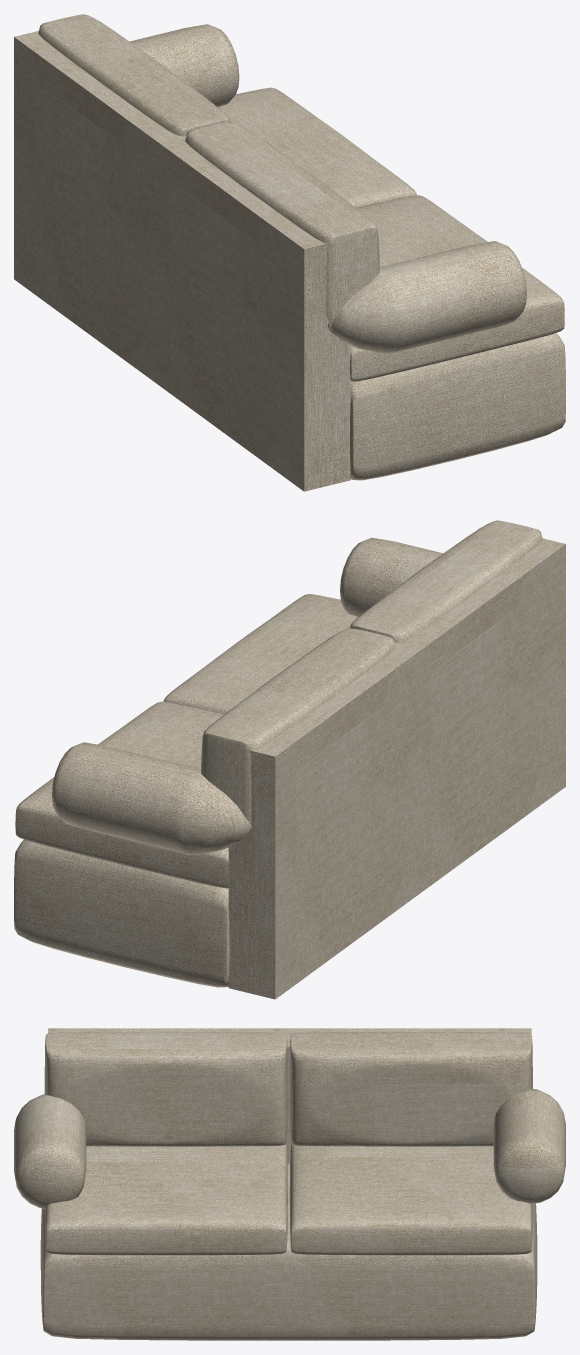
The model's file is couch.fbx.
3 views of the same model, one above another, from view 1: azimuth 30°, elevation 25°; view 2: azimuth 150°, elevation 25°; view 3: azimuth 270°, elevation 25° (orthographic). The views are drawn at different scales.
Parts seen in each view (by area): view 1: polySurface107; view 2: polySurface107; view 3: polySurface107.
Boxes of the visible parts, <box> form: polySurface107: <box>14,14,565,491</box>; polySurface107: <box>14,520,565,999</box>; polySurface107: <box>14,1028,565,1340</box>.
Bounding box in the file's own units: 25.87 × 25.21 × 56.78.
1 material, 1 textured.
